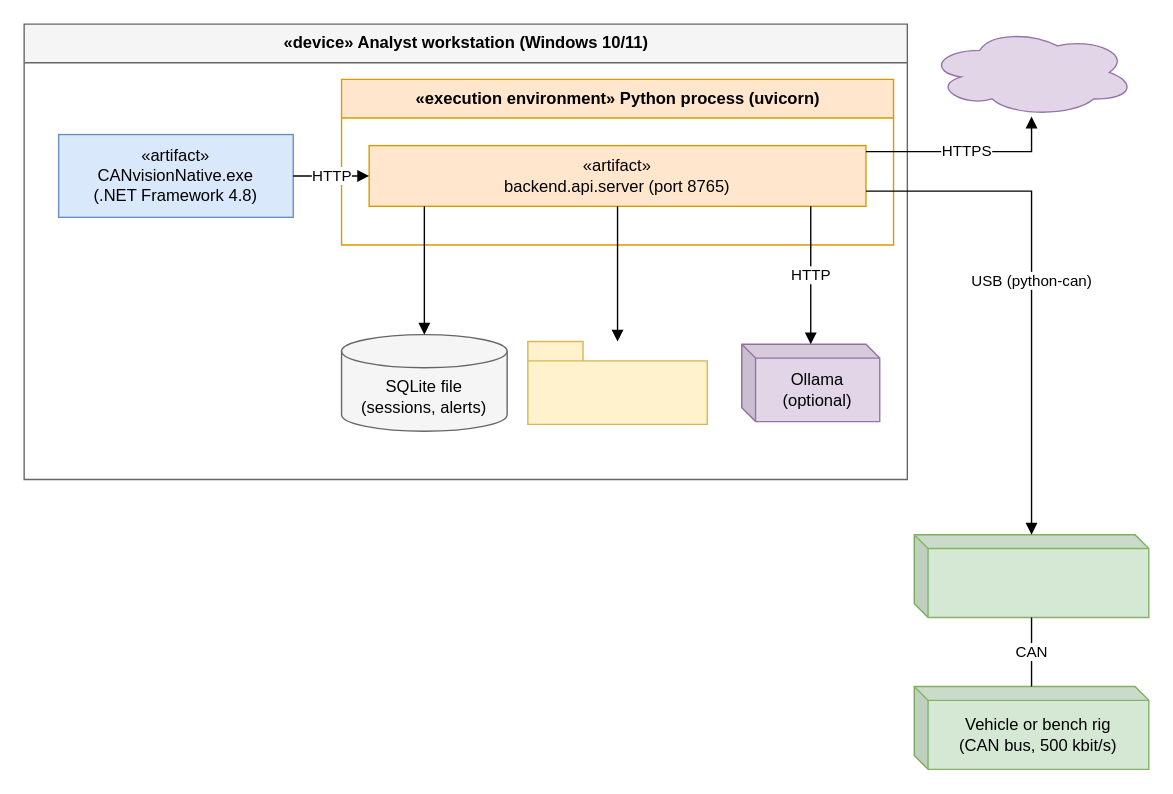
This 1173x794 diagram has some shape labels left out. Here are the shapes that lost their labels. From the top down, the centre of each, then its label:
At (1031,72): "Google Gemini API".
At (616,382): "assets/models (manifests, models)".
At (1031,575): "USB CAN adapter (slcan bridge, PCAN)".
